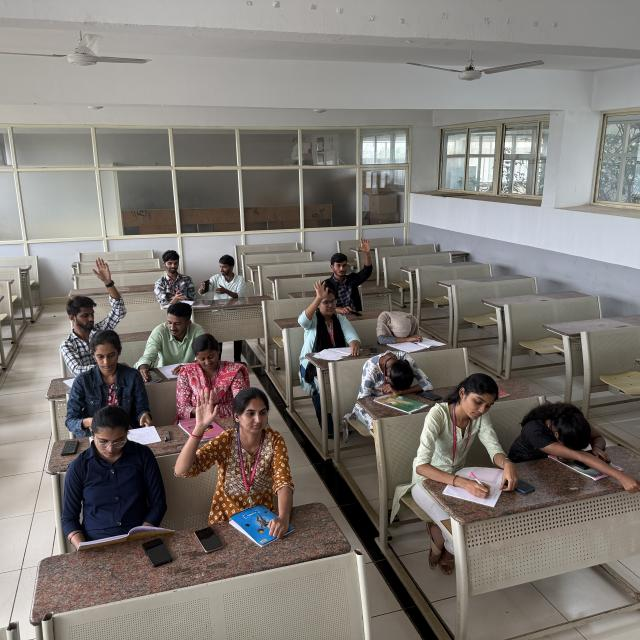Hand Rising: (172, 391, 306, 508), (44, 256, 134, 370), (300, 228, 386, 310), (294, 276, 364, 371)
Reading: (74, 398, 177, 544), (87, 318, 164, 446)
Sleeping: (511, 380, 640, 481), (333, 341, 454, 393), (373, 295, 446, 348)
Using Phone: (176, 334, 256, 416), (196, 235, 258, 322)
Writing: (407, 372, 519, 512)
